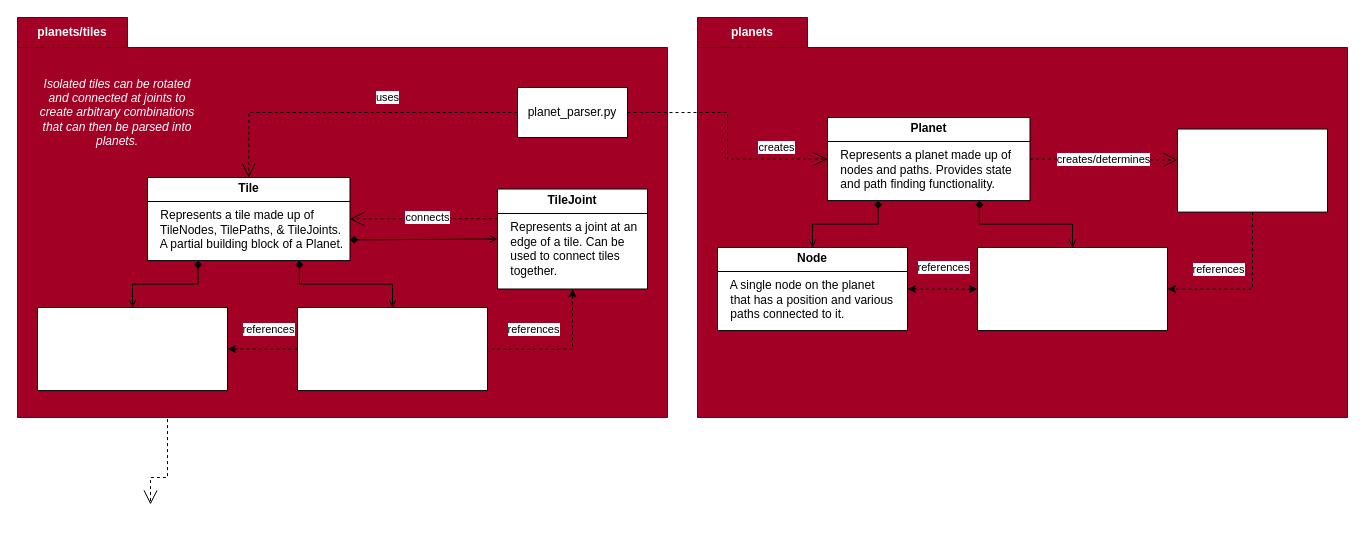
Some shapes in this 1365 by 536 pixel diagram are drawn without their labels. The shapes that lost their labels are listed below. From the top down, each one's box as (x1, y1, x2, y2) in pixels, then its label:
(1176, 128, 1328, 212): Route Represents a route between nodes that can span multiple paths.
(976, 246, 1168, 331): Path A path between two nodes.
(36, 306, 228, 391): TileNode A single node on the tile. Has coordinates relative to its tile.
(296, 306, 488, 391): TilePath A path between two points, which can be TileNodes or TileJoints.
